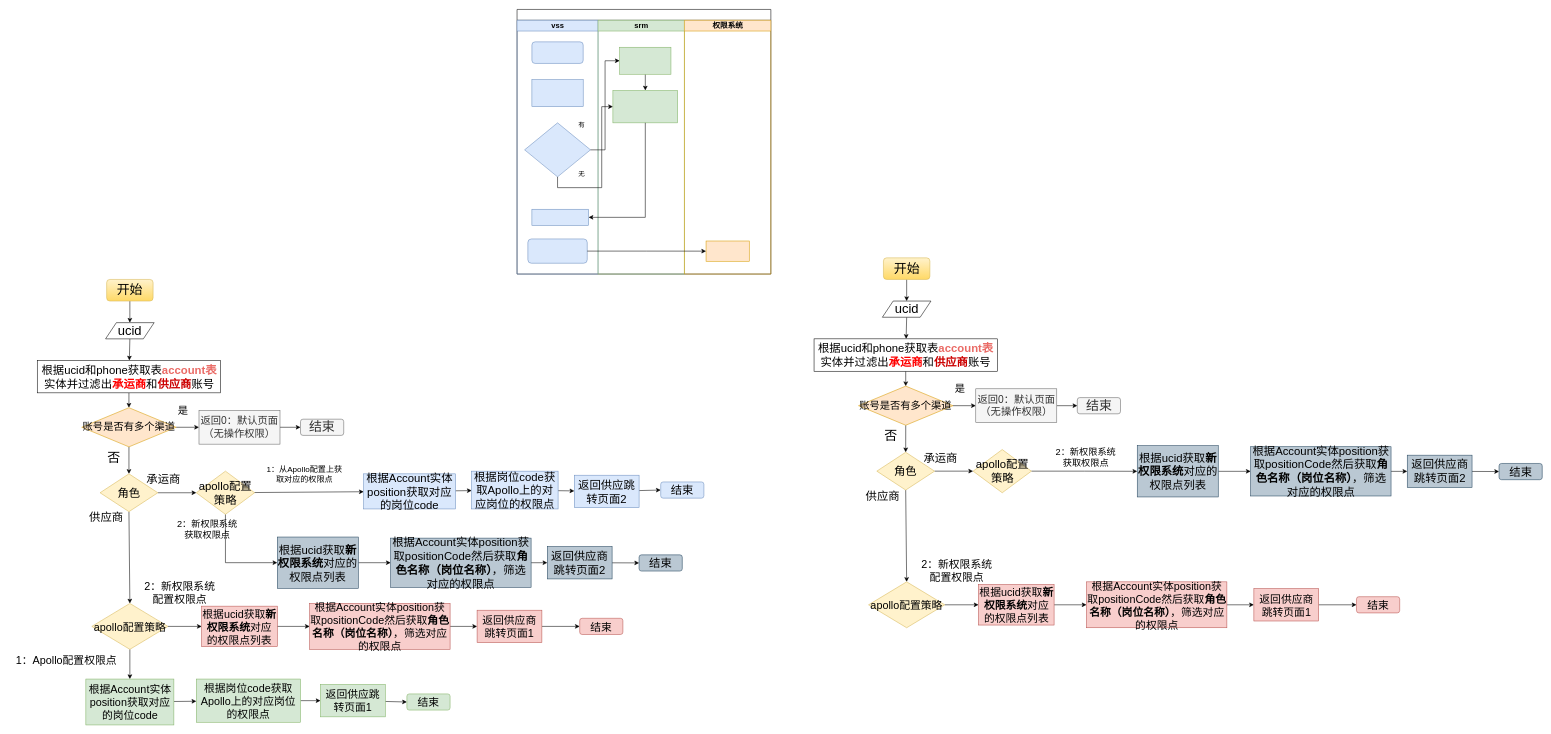
This 1551x734 diagram has some shape labels left out. Here are the shapes that lost their labels. From the top down, the box of each, then its label:
(531, 41, 583, 63): 供应商登录
(619, 47, 671, 74): 获取分公司信息
(531, 79, 583, 107): 身份校验/ 参数校验
(612, 90, 678, 123): 获取供应商信息
(524, 122, 590, 177): vss账号对应vss库里是否有分公司
(517, 9, 771, 274): Pool
(531, 209, 589, 225): 供应商信息
(527, 238, 587, 263): 获取权限列表
(706, 240, 749, 261): 权限列表
